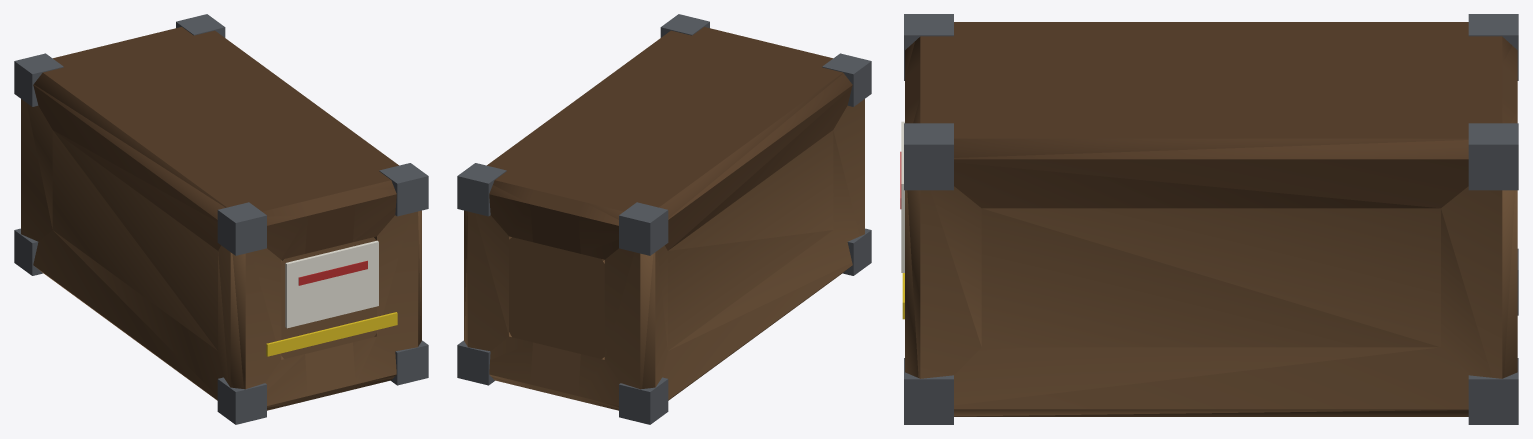
Rendered from box-large.glb.
3 views of the same model, side by side, from view 1: azimuth 30°, elevation 25°; view 2: azimuth 150°, elevation 25°; view 3: azimuth 270°, elevation 25° (orthographic). The views are drawn at different scales.
Visible parts, largest first — view 1: box-large; view 2: box-large; view 3: box-large.
Part boxes in pixels (box(x1,y1,x2,y2)): box-large: box(14, 14, 428, 424); box-large: box(457, 14, 871, 424); box-large: box(900, 14, 1518, 424).
Size of the model in its own units: 0.25 by 0.25 by 0.5.
